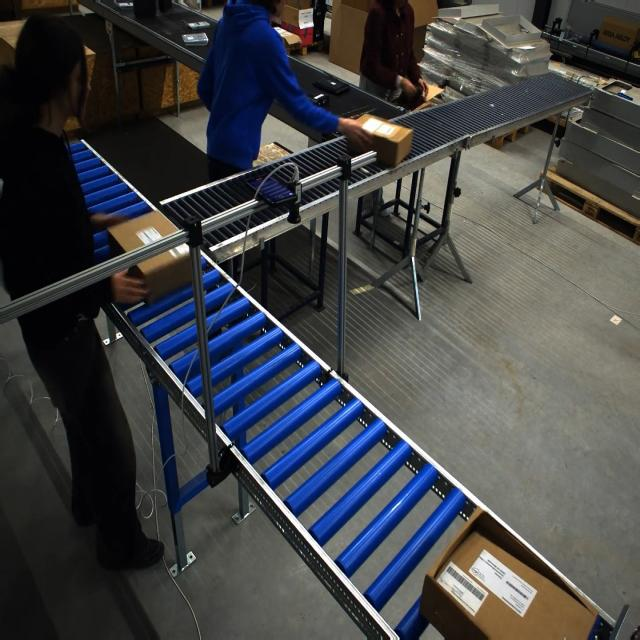box: (422, 506, 609, 639), (106, 212, 195, 301), (348, 114, 409, 170)
product: (312, 78, 345, 97), (340, 107, 377, 121), (181, 32, 208, 45), (184, 21, 211, 30), (312, 93, 330, 105), (114, 1, 134, 10)
